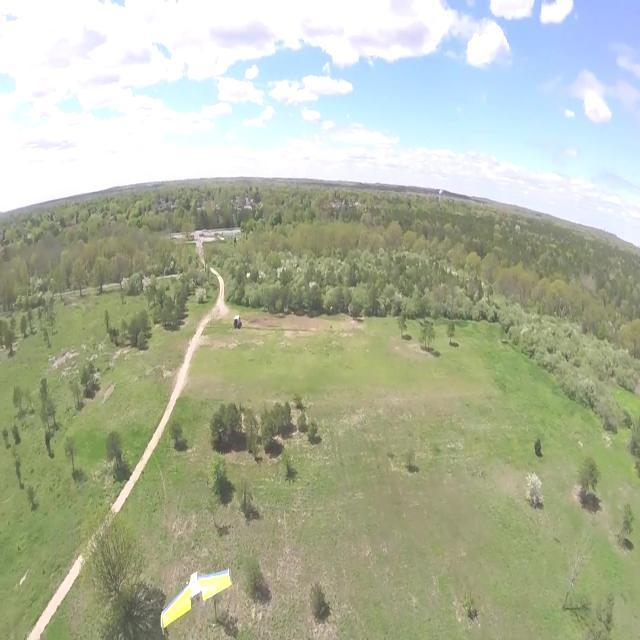iha: (189, 566, 202, 629)
